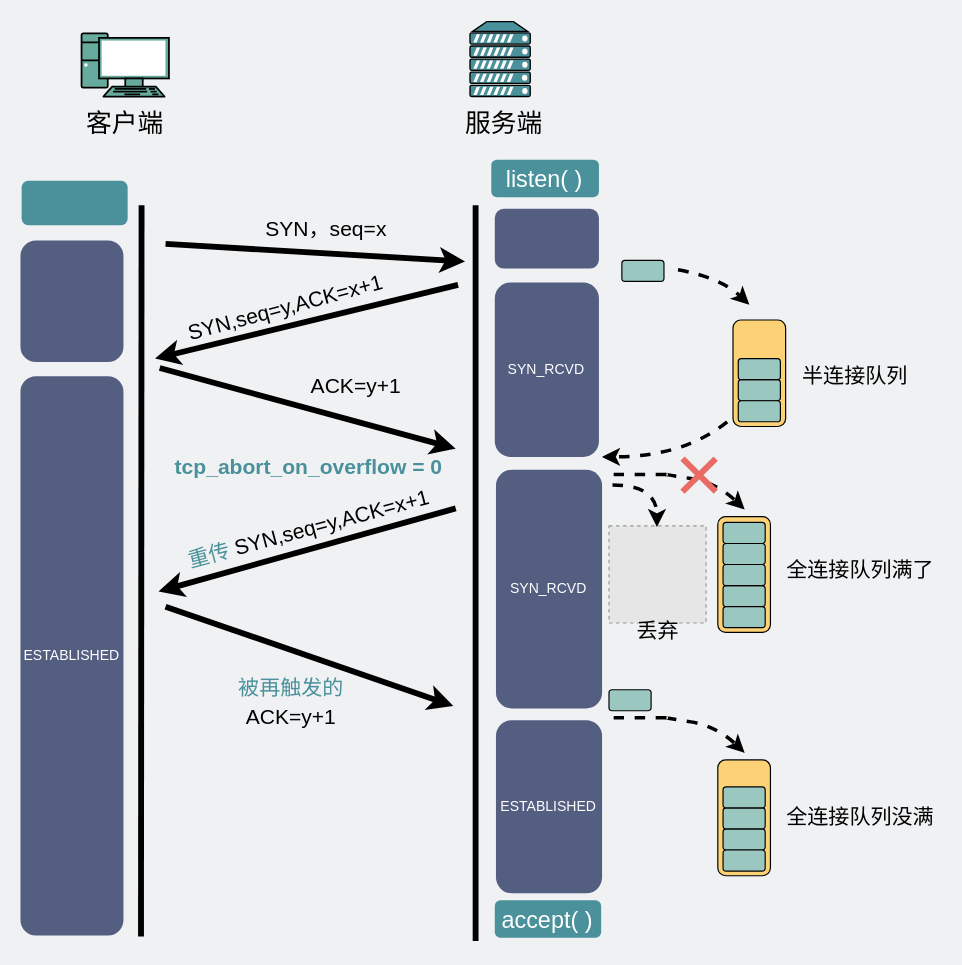
Image size: 962x965. Some labels were removed from this diagram. Grey dashed boxes stand in for pictures. The centre of each missing label's shape, as x and y in pixels:
"connect()" goes at point (74, 202).
"LISTEN" goes at point (546, 238).
"SYN_SENT" goes at point (71, 301).
